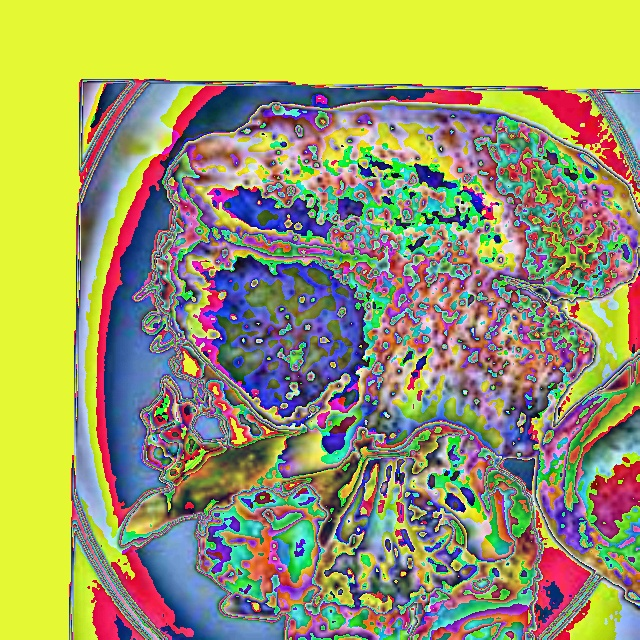background: (118, 103, 639, 639)
